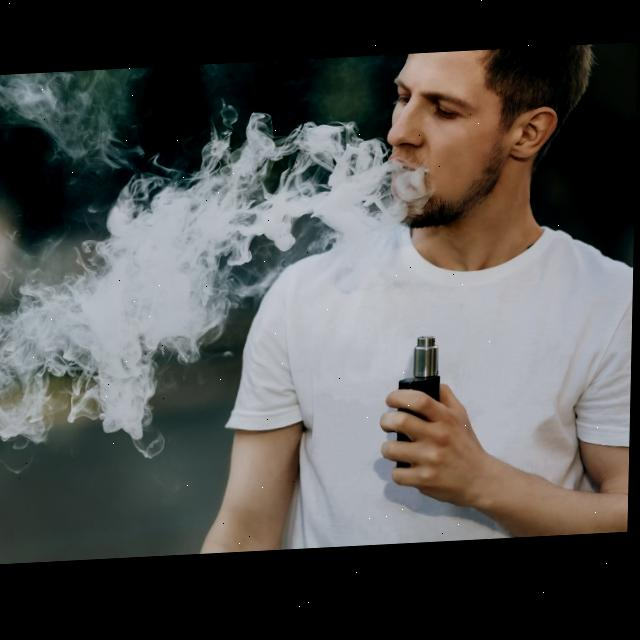vape: (399, 341, 442, 474)
